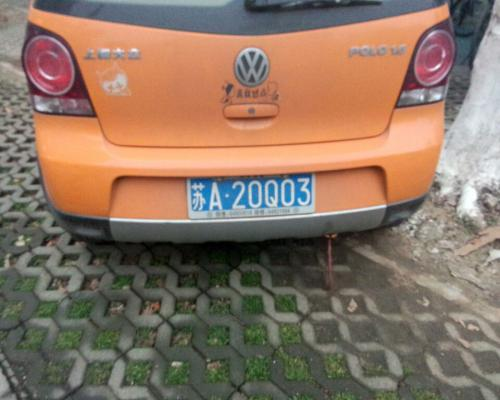Carplate: (186, 172, 316, 216)
